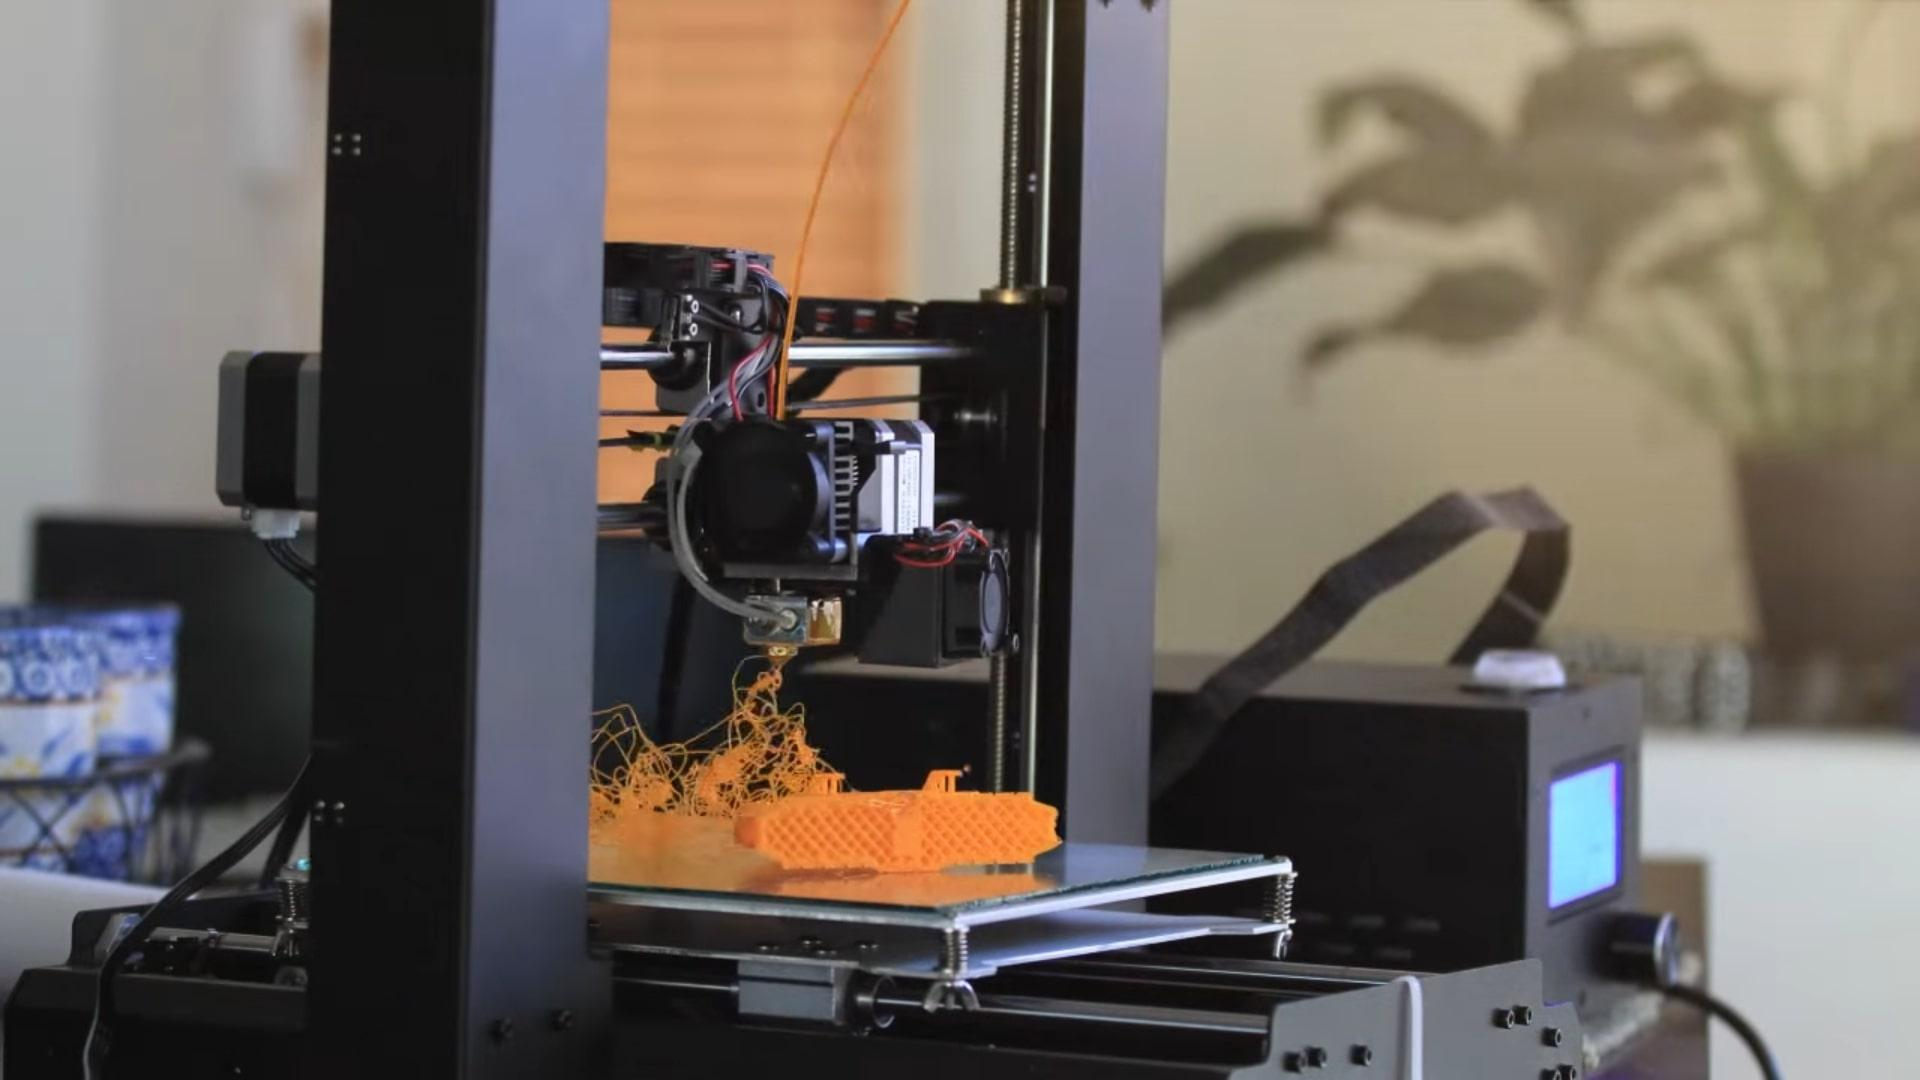Printing-Artifact: (575, 669, 843, 811)
